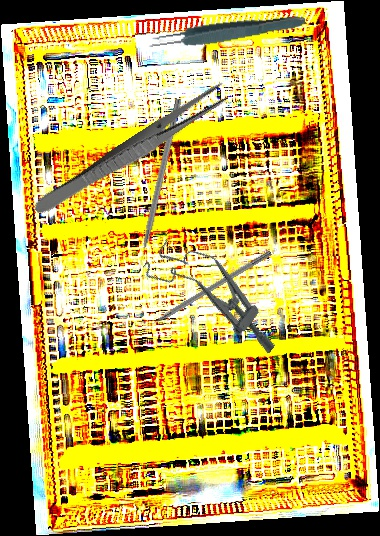Dressing Forceps: (30, 79, 234, 223)
Hook Surgical: (139, 248, 273, 333), (133, 97, 183, 276)
Speculum: (139, 226, 296, 364)
Tissue Forceps: (147, 10, 307, 53)
